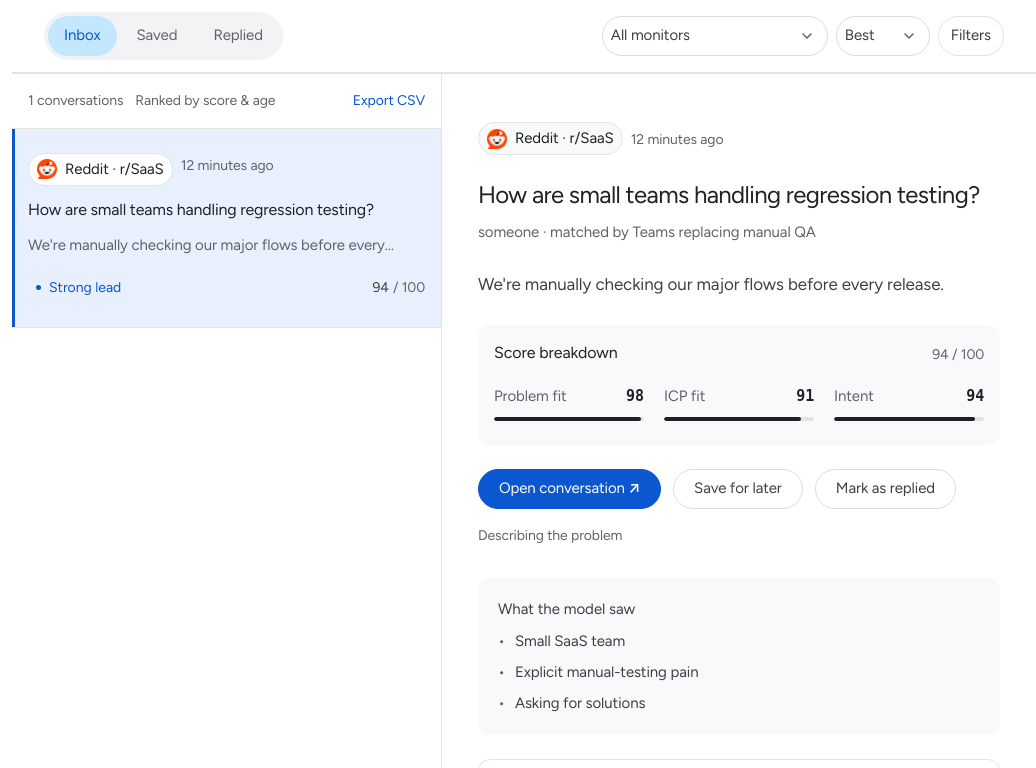
Test: the inbox › marking a match replied › asks the server for the replied list, which has its own order and heading
The image size is (1036, 768).
Click the button "Replied". click: (238, 36)
box: [197,16,279,56]
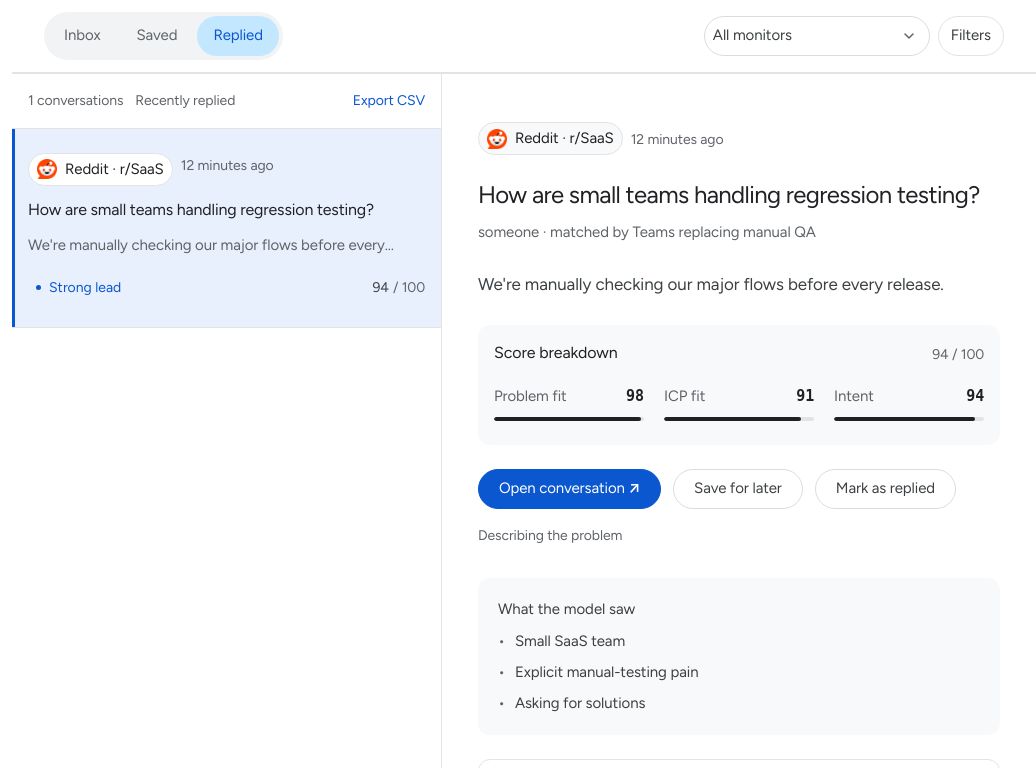
Expected: the dropdown named "Order" is gone
Expected: the element with class "list-heading" shows "Recently replied", [135,92,235,109]
